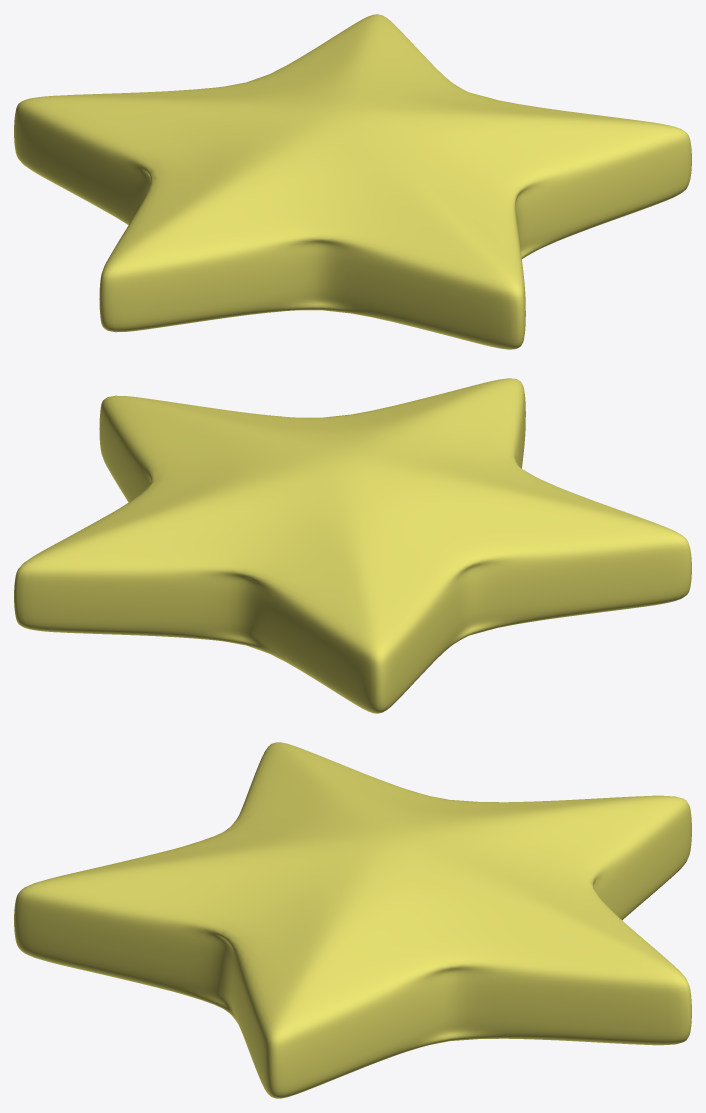
File: star.fbx
3 views of the same model, one above another, from view 1: azimuth 30°, elevation 25°; view 2: azimuth 150°, elevation 25°; view 3: azimuth 270°, elevation 25° (orthographic). The views are drawn at different scales.
Visible parts, largest first — view 1: star; view 2: star; view 3: star.
Boxes of the visible parts, left/top/right/bottom form: star: left=14, top=14, right=691, bottom=349; star: left=14, top=378, right=691, bottom=713; star: left=14, top=742, right=691, bottom=1098.
Size of the model in its own units: 180 by 45.22 by 171.
